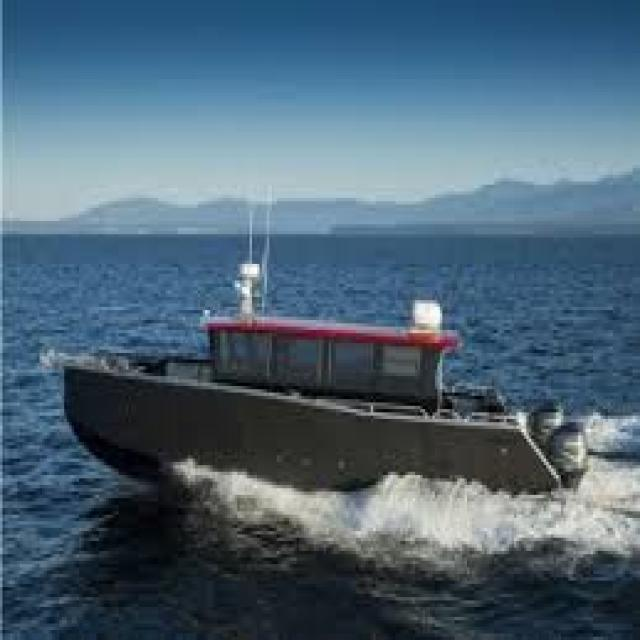houseboat: (58, 248, 591, 504)
